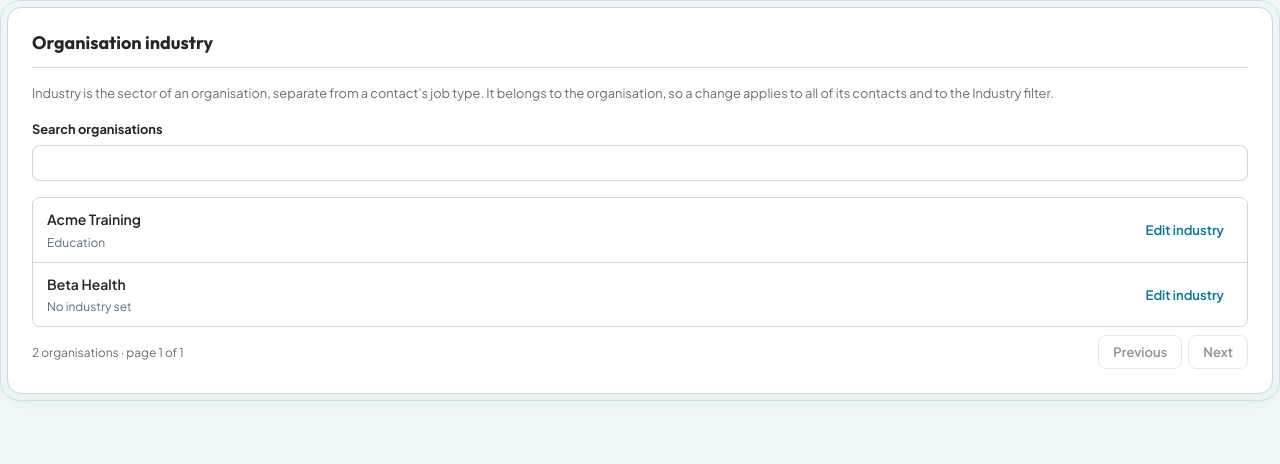
Test: OrganisationSettings › saves with the value the edit started from
The image size is (1280, 464).
Click the button with aria-label "Edit industry of Acme Training" at (1185, 230), box [1137, 217, 1233, 243]
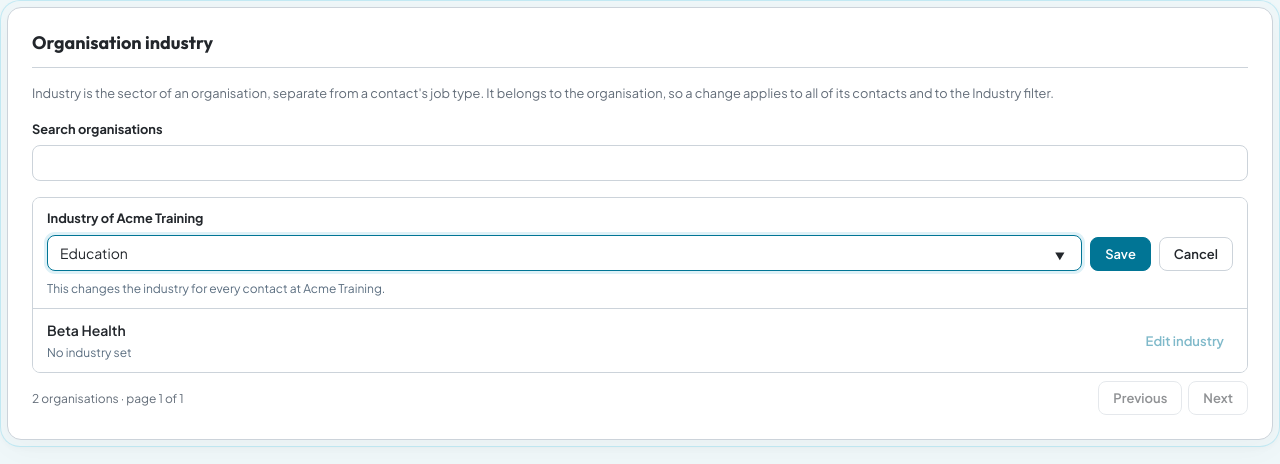
Replace the text in the field labelled "Industry of Acme Training" with "  Health " at (565, 253), box [47, 235, 1082, 271]
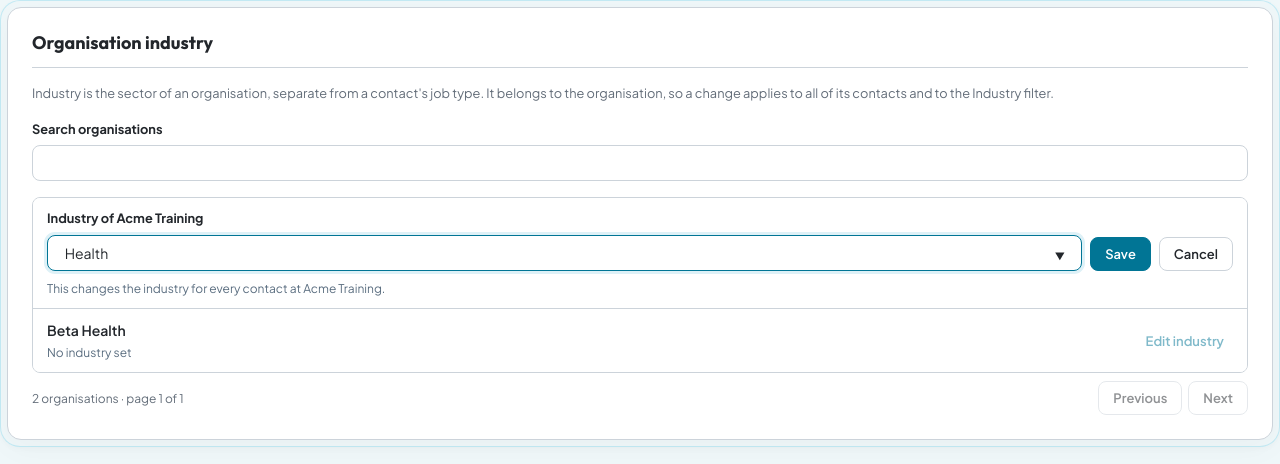
Click the button "Save" at (1121, 254), box [1090, 237, 1151, 271]
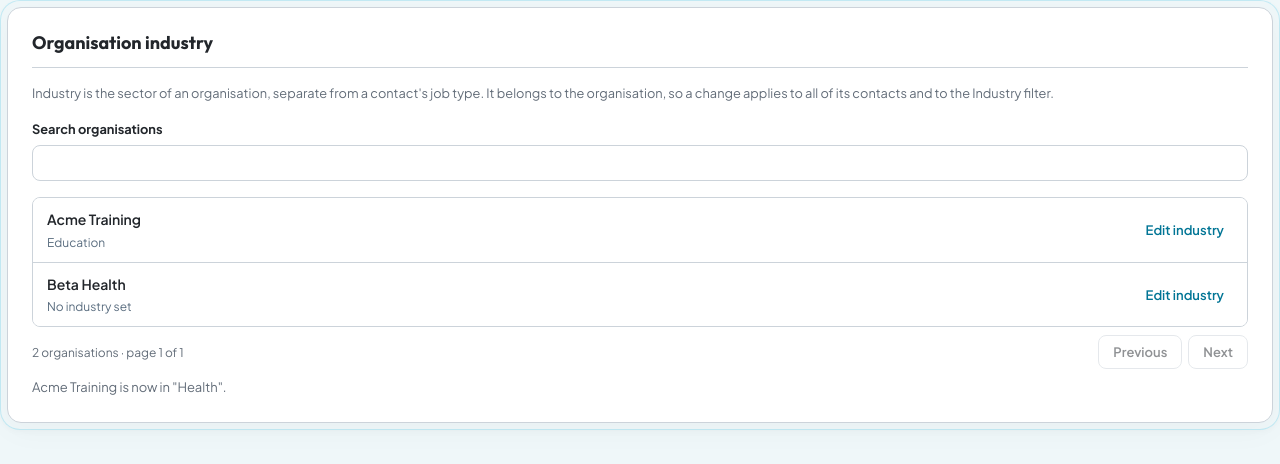
Now the message reads "Acme Training is now in \"Health\".", box [32, 379, 227, 395]
